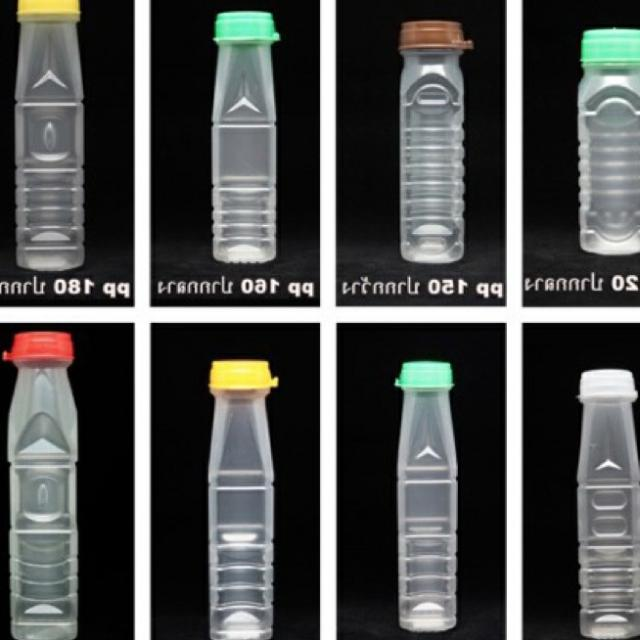plastik: (4, 332, 79, 640), (208, 360, 278, 640), (14, 0, 84, 271), (399, 21, 473, 264), (577, 369, 640, 639), (212, 12, 279, 264), (395, 361, 457, 632), (577, 29, 640, 255)
